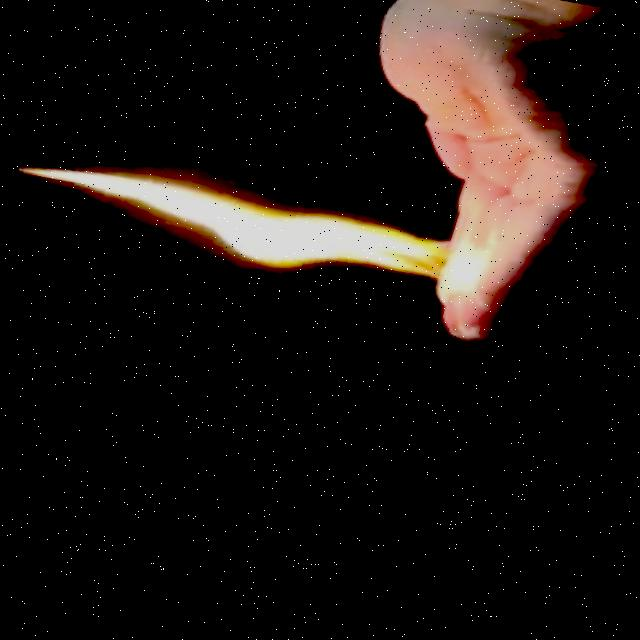Fire: (0, 100, 524, 364)
